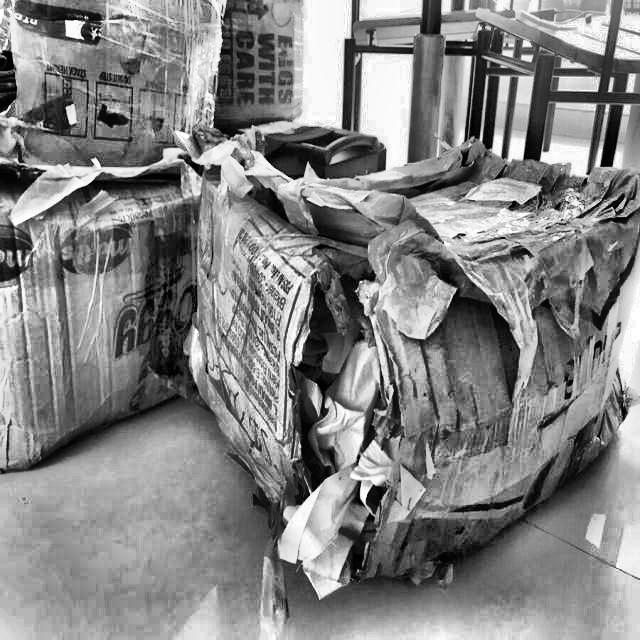box: (179, 122, 639, 607)
hole: (287, 248, 407, 560)
